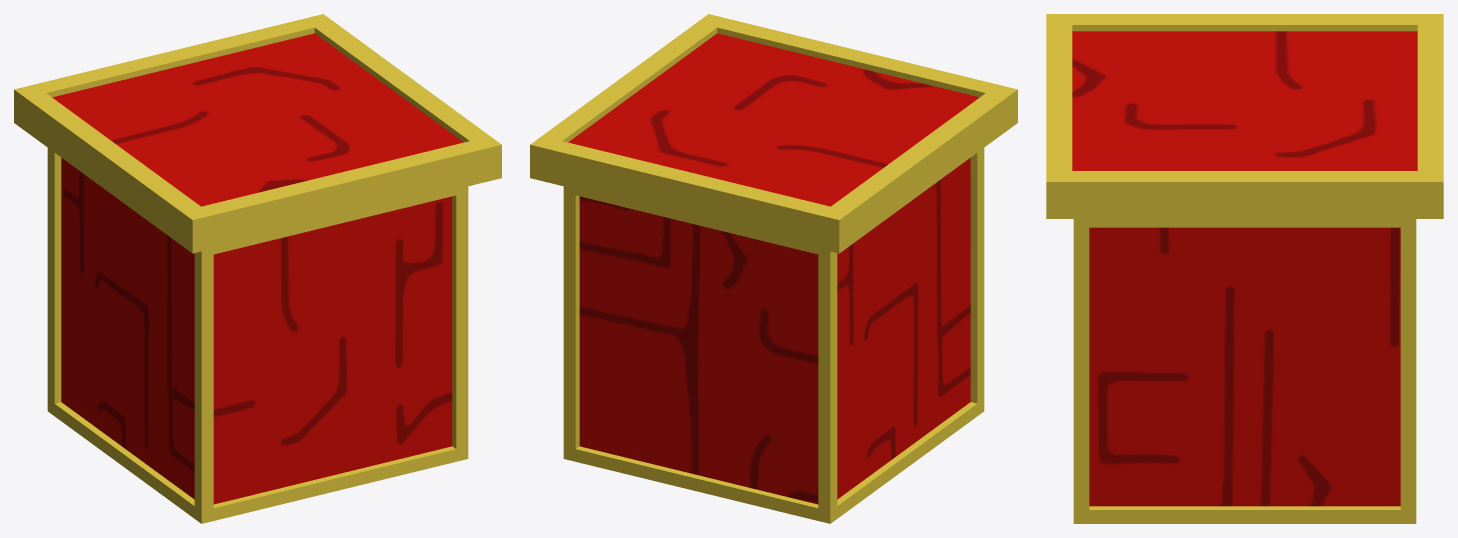
Rendered from Mesh_PushBlock.glb.
3 renders of one model, left to right at view 1: azimuth 30°, elevation 25°; view 2: azimuth 150°, elevation 25°; view 3: azimuth 270°, elevation 25°, orthographic. The views are drawn at different scales.
Visible parts, largest first — view 1: Cube.068; view 2: Cube.068; view 3: Cube.068.
Part boxes in pixels (left/top/right/bottom): Cube.068: left=14, top=14, right=501, bottom=523; Cube.068: left=530, top=14, right=1017, bottom=523; Cube.068: left=1046, top=14, right=1443, bottom=523.
Bounding box in the file's own units: 8.05 × 7.91 × 8.05.
2 materials, 1 textured.
